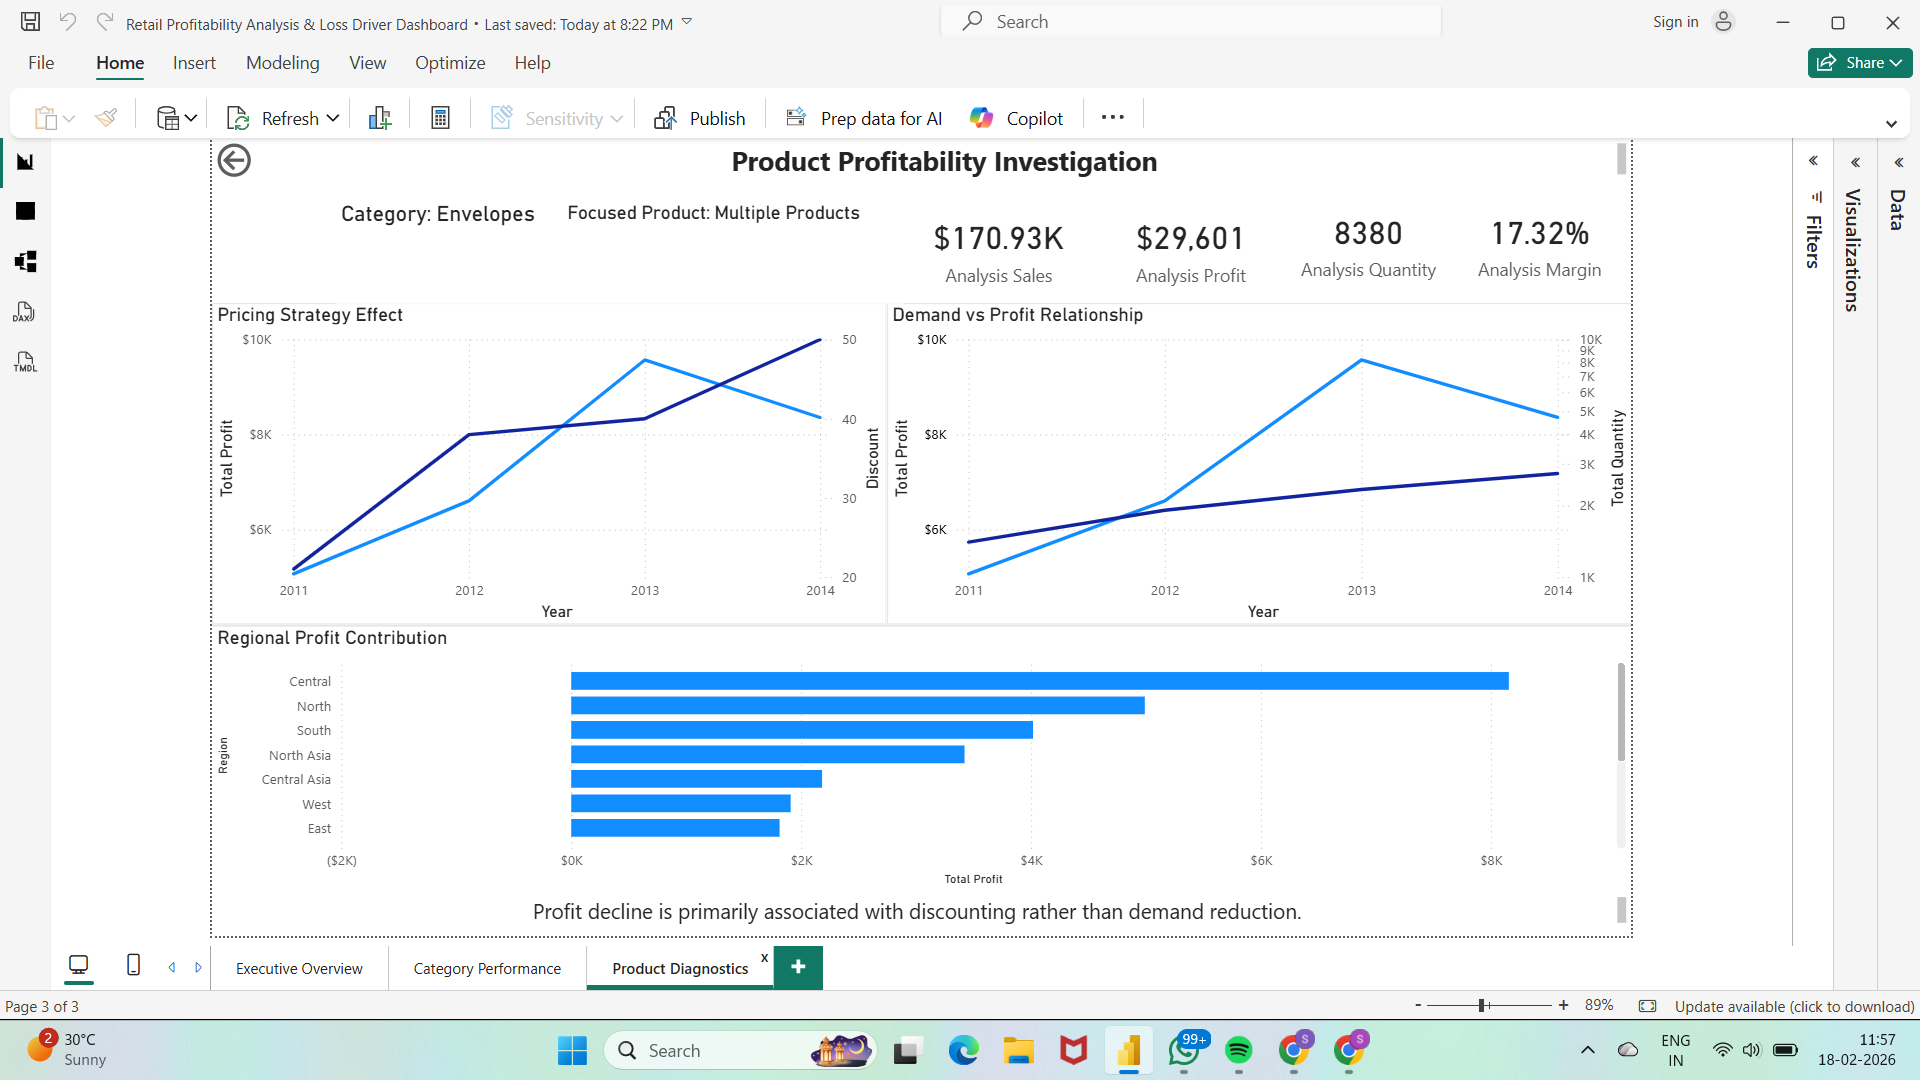

The page's visual inventory and layout, read from the dashboard file:
{"tool":"powerbi","page":{"name":"Product Diagnostics","canvas":[1280,720],"ordinal":2},"visuals":[{"type":"actionButton","box":[0,0,100,40],"z":0},{"type":"card","fields":{"Values":["superstore.Analysis Sales"]},"box":[624.5,48.5,170.4,100.8],"z":2000},{"type":"card","fields":{"Values":["superstore.Analysis Profit"]},"box":[794.9,48.5,176.6,100.8],"z":3000},{"type":"card","fields":{"Values":["superstore.Analysis Quantity"]},"box":[971.5,39.8,143.1,109.5],"z":4000},{"type":"card","fields":{"Values":["superstore.Analysis Margin"]},"box":[1114.6,39.8,165.4,109.5],"z":5000},{"type":"lineChart","title":"Pricing Strategy Effect","fields":{"Category":["superstore.Order.Date.Variation.Date Hierarchy.Year","superstore.Order.Date.Variation.Date Hierarchy.Month"],"Y":["superstore.Total Profit"],"Y2":["Sum(superstore.Discount)"]},"box":[0,149.3,608.3,291.1],"z":6000},{"type":"lineChart","title":"Demand vs Profit Relationship","fields":{"Category":["superstore.Order.Date.Variation.Date Hierarchy.Year","superstore.Order.Date.Variation.Date Hierarchy.Month"],"Y":["superstore.Total Profit"],"Y2":["superstore.Total Quantity"]},"box":[608.3,149.3,671.7,291.1],"z":7000},{"type":"clusteredBarChart","title":"Regional Profit Contribution","fields":{"Category":["superstore.Region"],"Y":["superstore.Total Profit"]},"box":[0,440.4,1280,238.8],"z":8000},{"type":"shape","box":[0,149.3,608.3,289.8],"z":9000},{"type":"shape","box":[608.3,149.3,671.7,289.8],"z":10000},{"type":"shape","box":[0,409.3,1280,61],"z":11000},{"type":"textbox","box":[0,679.2,1280,41.1],"z":12000},{"type":"textbox","box":[49.8,0,1230.3,39.8],"z":13000},{"type":"textbox","box":[112,57.2,204,92.1],"z":13001},{"type":"textbox","box":[316,57.2,308.5,92.1],"z":13002}]}

Visuals, with their boxes on the page's 1280x720 design canvas (x1, y1, x2, y2). These are canvas units, not pixel positions in the 1920x1080 screenshot, which may show the page scaled, cropped or inside an application window:
actionButton: Rect(0, 0, 100, 40)
card - superstore.Analysis Sales: Rect(624, 48, 795, 149)
card - superstore.Analysis Profit: Rect(795, 48, 972, 149)
card - superstore.Analysis Quantity: Rect(972, 40, 1115, 149)
card - superstore.Analysis Margin: Rect(1115, 40, 1280, 149)
"Pricing Strategy Effect" lineChart: Rect(0, 149, 608, 440)
"Demand vs Profit Relationship" lineChart: Rect(608, 149, 1280, 440)
"Regional Profit Contribution" clusteredBarChart: Rect(0, 440, 1280, 679)
shape: Rect(0, 149, 608, 439)
shape: Rect(608, 149, 1280, 439)
shape: Rect(0, 409, 1280, 470)
textbox: Rect(0, 679, 1280, 720)
textbox: Rect(50, 0, 1280, 40)
textbox: Rect(112, 57, 316, 149)
textbox: Rect(316, 57, 624, 149)
